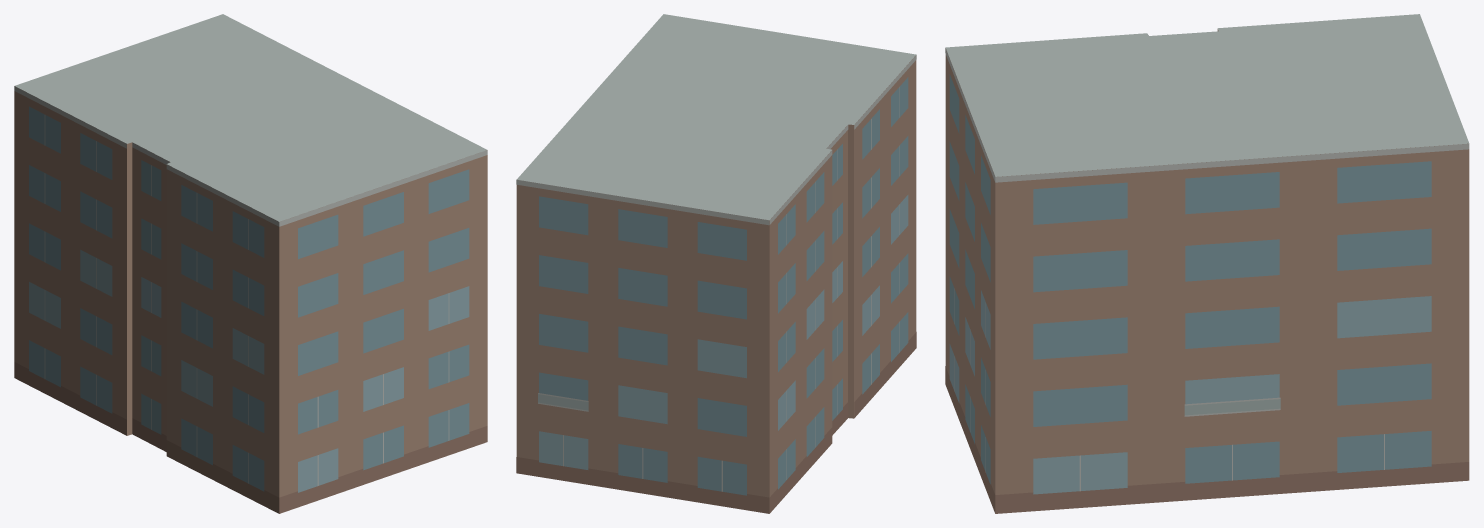
File: survey-upis-32715420.glb
3 views of the same model, side by side, from view 1: azimuth 30°, elevation 25°; view 2: azimuth 150°, elevation 25°; view 3: azimuth 270°, elevation 25° (orthographic). The views are drawn at different scales.
Parts seen in each view (by area): view 1: survey-upis-32715420.tmp; view 2: survey-upis-32715420.tmp; view 3: survey-upis-32715420.tmp.
Boxes of the visible parts, x1,y1,x2,y2 form: survey-upis-32715420.tmp: (14, 14, 487, 513); survey-upis-32715420.tmp: (516, 14, 916, 513); survey-upis-32715420.tmp: (945, 14, 1469, 513).
Size of the model in its own units: 14.84 by 14.3 by 20.16.
